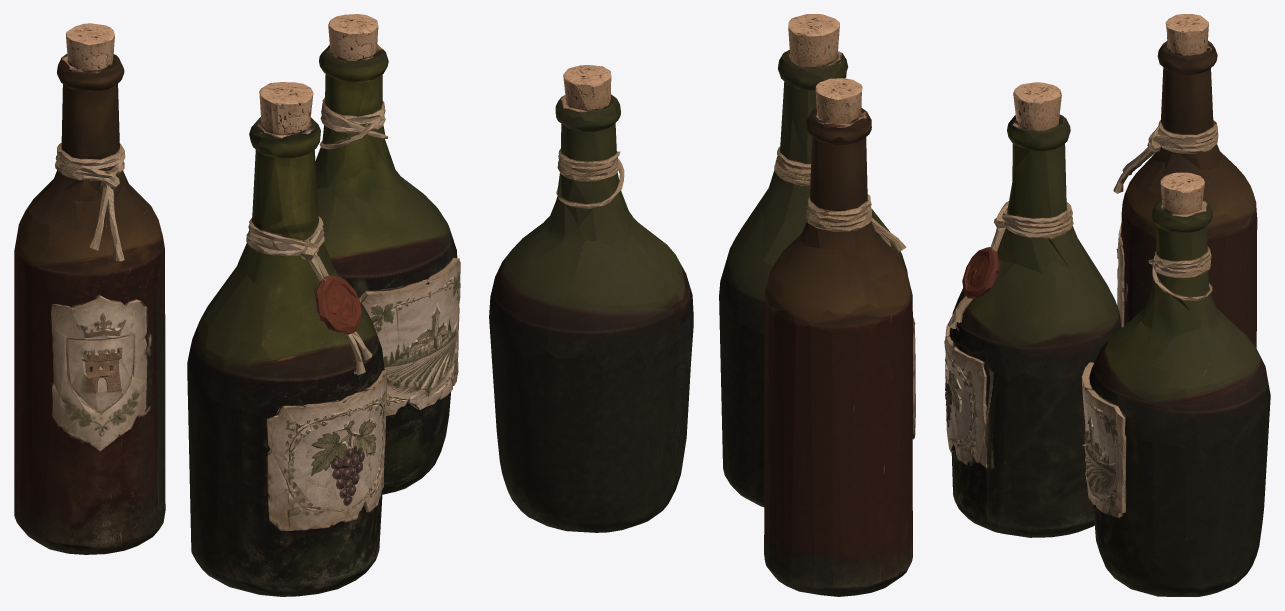
The model's file is bottles.glb.
3 views of the same model, side by side, from view 1: azimuth 30°, elevation 25°; view 2: azimuth 150°, elevation 25°; view 3: azimuth 270°, elevation 25° (orthographic). The views are drawn at different scales.
Size of the model in its own units: 1.67 by 1.9 by 1.28.
1 material, 1 textured.
